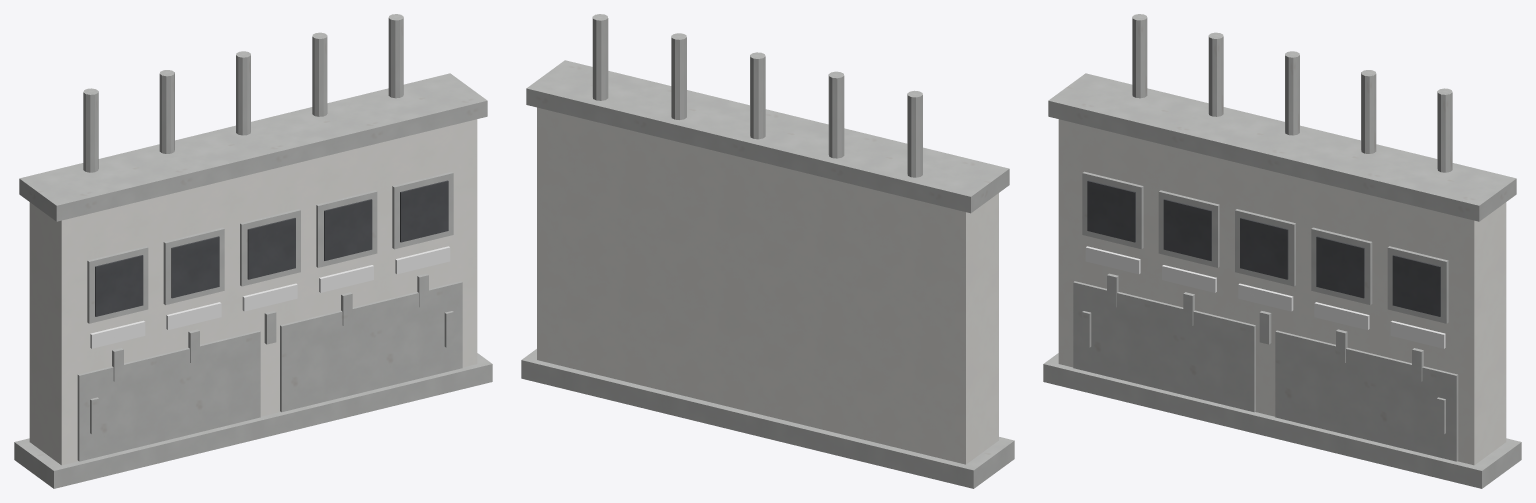
Rendered from busboard.gltf.
3 renders of one model, left to right at view 1: azimuth 30°, elevation 25°; view 2: azimuth 150°, elevation 25°; view 3: azimuth 330°, elevation 25°, orthographic. The views are drawn at different scales.
Visible parts, largest first — view 1: jx_busboard; view 2: jx_busboard; view 3: jx_busboard.
Part boxes in pixels (x1,y1,x2,y2): jx_busboard: (14, 14, 492, 488); jx_busboard: (521, 14, 1014, 488); jx_busboard: (1043, 14, 1521, 488).
Bounding box in the file's own units: 4.6 × 3.6 × 0.72.
Materials: 4 (4 with a texture image).
